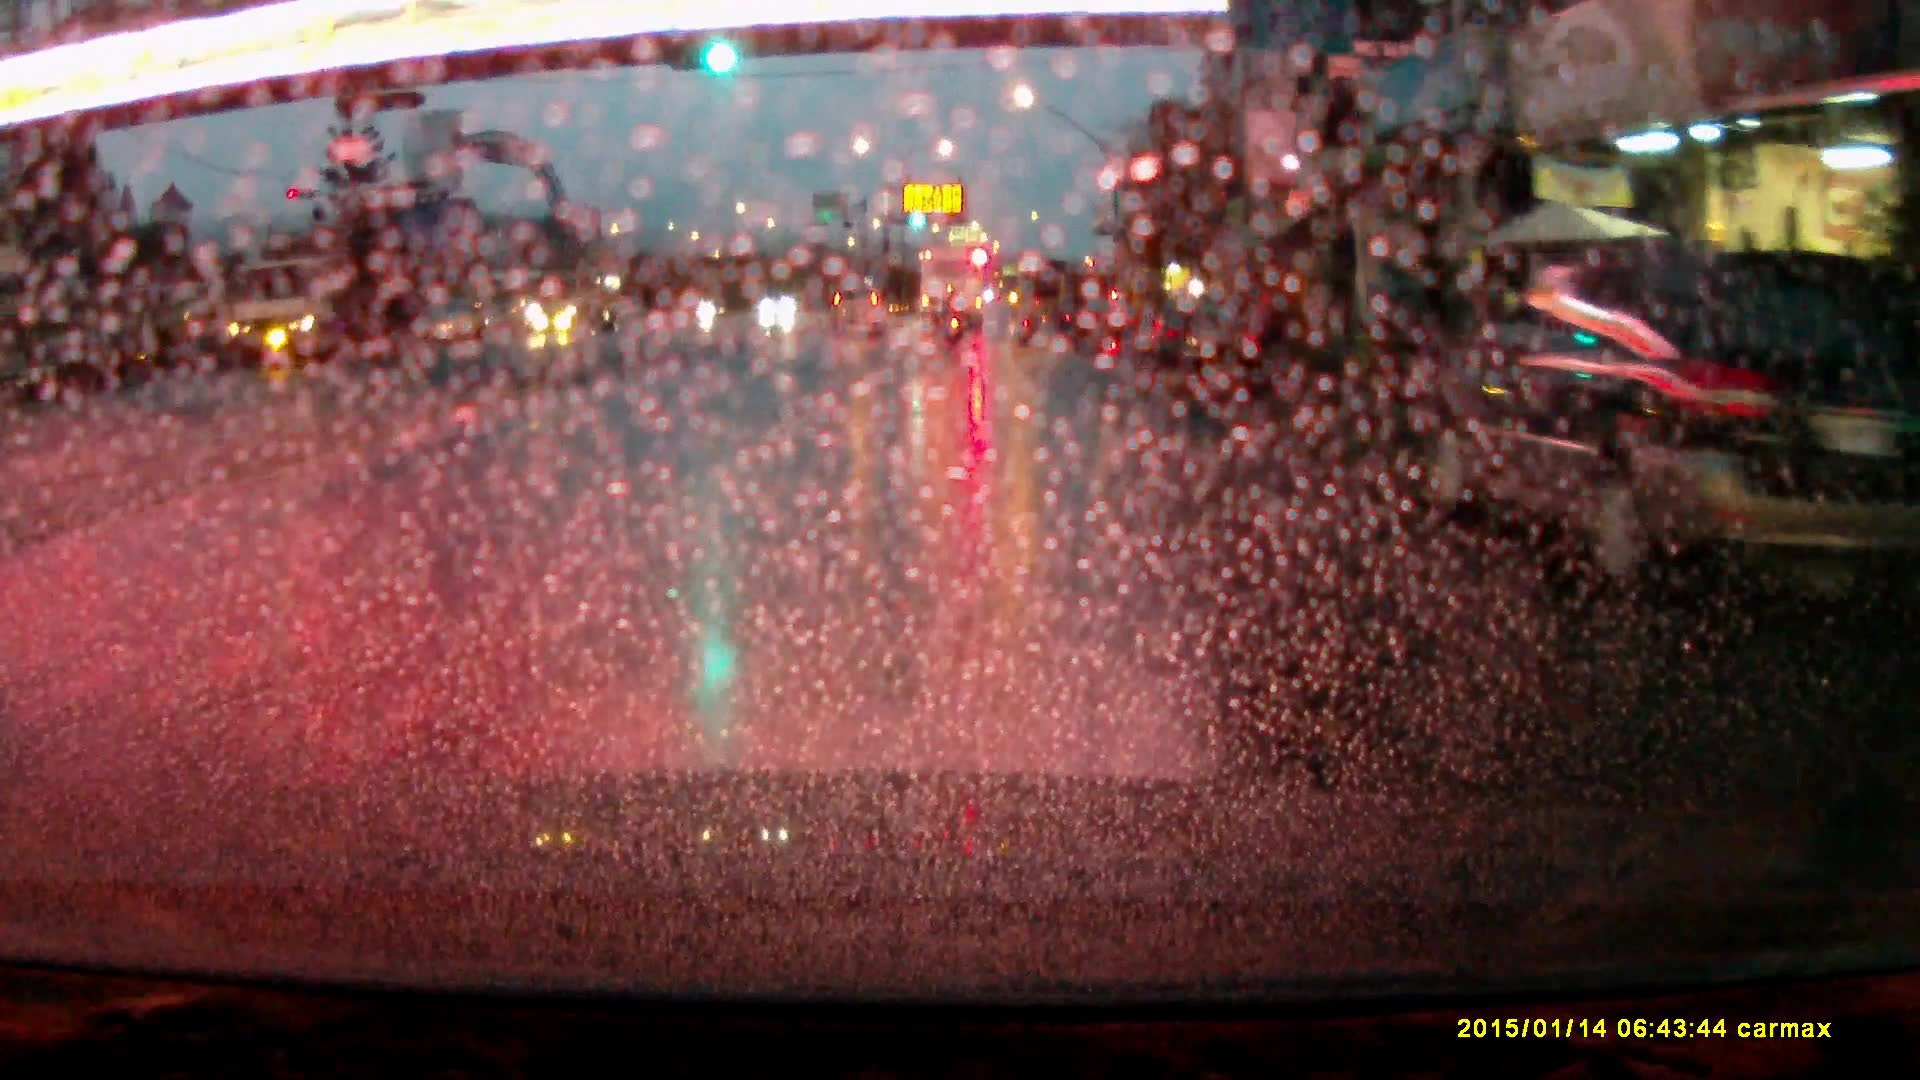rider: (945, 286, 966, 338)
vehicle: (1425, 244, 1865, 598), (221, 252, 407, 360), (1144, 302, 1257, 388), (530, 262, 622, 332), (919, 237, 986, 330), (1071, 297, 1138, 350), (829, 275, 886, 322)
